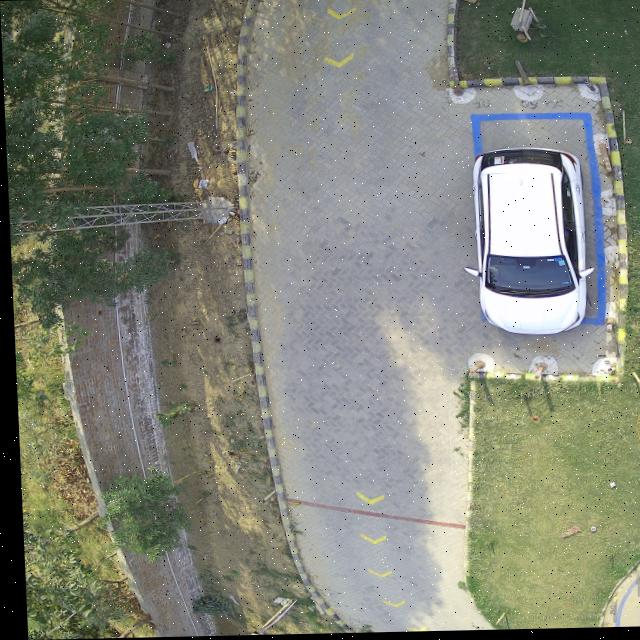car: (471, 149, 589, 337)
